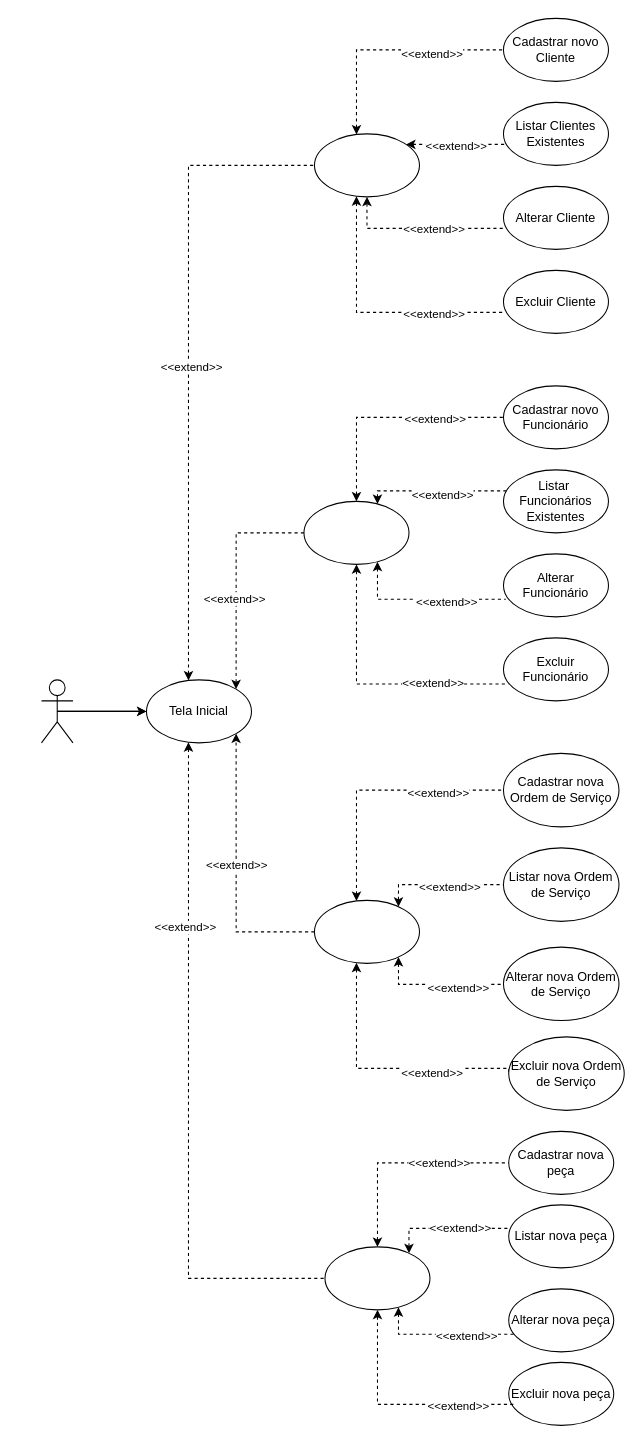
The diagram is 643 pixels wide and 1444 high, and some of its shapes have lost their labels. Here are the shapes that lost their labels. From the top down, the centre of each, then its label:
At pixel 366 165: "Cliente".
At pixel 356 532: "Funcionário".
At pixel 56 711: "Usuário Administrador".
At pixel 366 931: "Ordem de Serviço".
At pixel 377 1278: "Peças".
